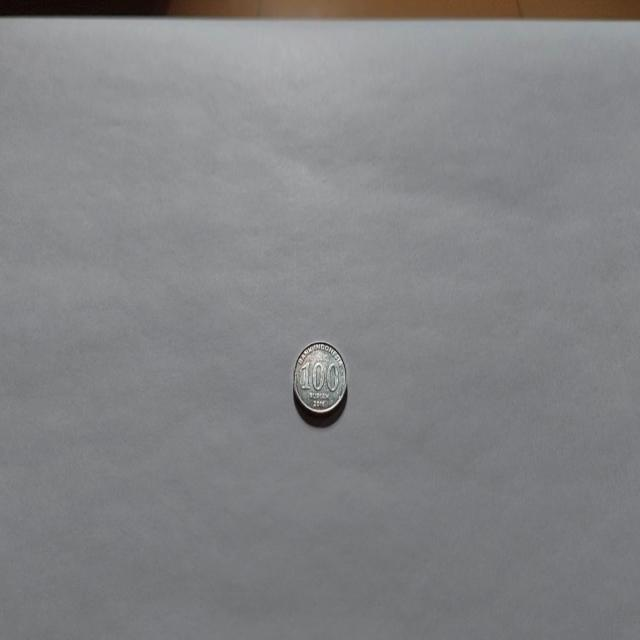seratus rupiah: (292, 340, 348, 423)
